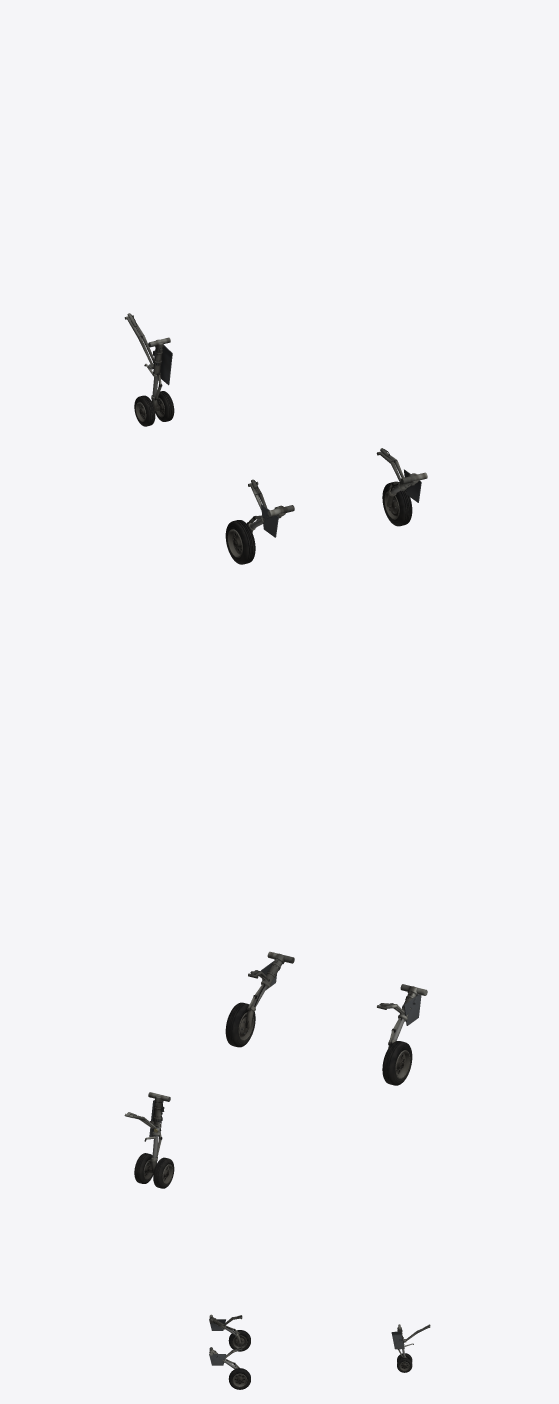
Rendered from f18_gear.glb.
The picture shows the model from 3 angles, top to bottom: view 1: azimuth 30°, elevation 25°; view 2: azimuth 150°, elevation 25°; view 3: azimuth 270°, elevation 25°; orthographic projection. The views are drawn at different scales.
Visible parts, largest first — view 1: gear_n, gear_w_l, gear_w_r, gear_m_r, gear_m_l; view 2: gear_n, gear_w_l, gear_w_r, gear_m_l, gear_m_r; view 3: gear_n, gear_w_r, gear_w_l, gear_m_l, gear_m_r.
Boxes of the visible parts, x1,y1,x2,y2 form: gear_n: (134, 337, 174, 426); gear_w_l: (225, 520, 255, 564); gear_w_r: (382, 481, 412, 526); gear_m_r: (386, 469, 427, 506); gear_m_l: (247, 504, 294, 537); gear_n: (134, 1092, 174, 1188); gear_w_l: (382, 1041, 412, 1085); gear_w_r: (225, 1002, 255, 1047); gear_m_l: (388, 984, 427, 1047); gear_m_r: (245, 951, 294, 1027); gear_n: (391, 1324, 413, 1372); gear_w_r: (228, 1368, 250, 1389); gear_w_l: (228, 1330, 250, 1351); gear_m_l: (209, 1314, 242, 1343); gear_m_r: (209, 1347, 239, 1369).
Bounding box in the file's own units: 3.4 × 5.89 × 18.54.
1 material, 1 textured.
